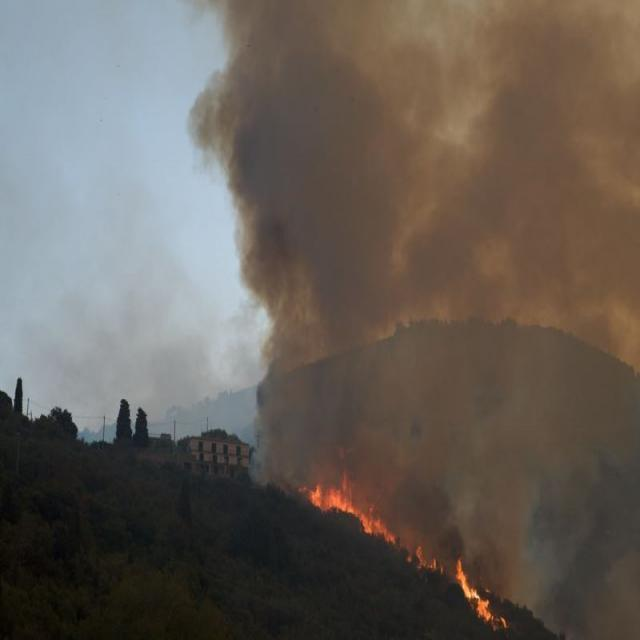Fire: (305, 469, 396, 564), (452, 560, 510, 636), (410, 539, 440, 578)
